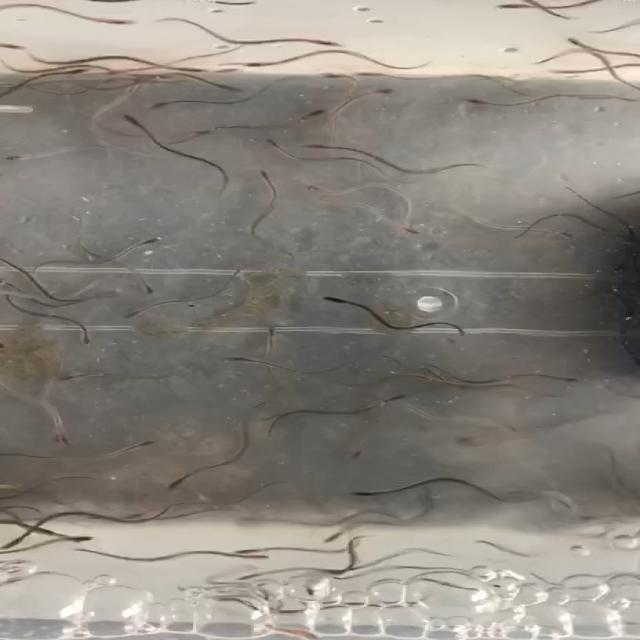active_glass_eel: (45, 59, 100, 80), (120, 231, 167, 253), (158, 472, 198, 497), (456, 91, 503, 108), (190, 120, 228, 140), (369, 85, 413, 102), (127, 299, 158, 322), (217, 351, 260, 367), (541, 225, 577, 244), (296, 180, 338, 196), (218, 552, 273, 564), (304, 295, 354, 308), (212, 76, 250, 93), (317, 64, 355, 81), (344, 484, 390, 498), (199, 64, 239, 80), (117, 109, 149, 129), (262, 322, 290, 344), (372, 387, 408, 404), (322, 526, 354, 545), (486, 0, 535, 12), (541, 369, 585, 382), (300, 38, 350, 49), (264, 136, 290, 157), (557, 32, 591, 48), (294, 140, 338, 152), (120, 438, 160, 451), (93, 14, 134, 26), (130, 276, 152, 298), (72, 324, 96, 344), (0, 151, 43, 162), (226, 546, 277, 555), (63, 533, 93, 547), (56, 425, 74, 448), (240, 59, 280, 69), (392, 226, 432, 236), (256, 166, 276, 185), (0, 535, 27, 548), (293, 107, 318, 121), (147, 103, 169, 114)
